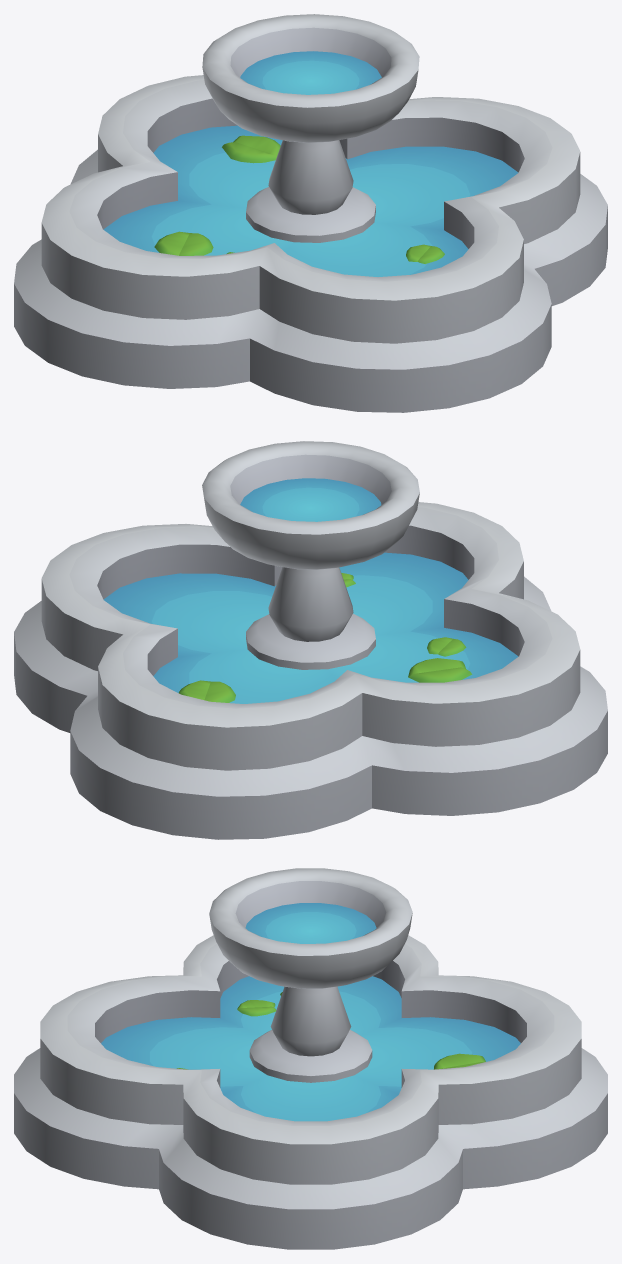
Rendered from Fountain.gltf.
The picture shows the model from 3 angles, top to bottom: view 1: azimuth 30°, elevation 25°; view 2: azimuth 150°, elevation 25°; view 3: azimuth 270°, elevation 25°; orthographic projection. The views are drawn at different scales.
Parts seen in each view (by area): view 1: fountain, fountain_water, fountain_leaves; view 2: fountain, fountain_water, fountain_leaves; view 3: fountain, fountain_water, fountain_leaves.
Part boxes in pixels (x1,y1,x2,y2): fountain: [14, 14, 607, 412]; fountain_water: [103, 51, 518, 276]; fountain_leaves: [154, 135, 444, 263]; fountain: [14, 441, 607, 839]; fountain_water: [103, 478, 518, 703]; fountain_leaves: [179, 573, 472, 702]; fountain: [14, 868, 607, 1249]; fountain_water: [101, 903, 520, 1121]; fountain_leaves: [177, 992, 485, 1069].
Size of the model in its own units: 4 by 1.6 by 4.
Materials: 1 (1 with a texture image).
